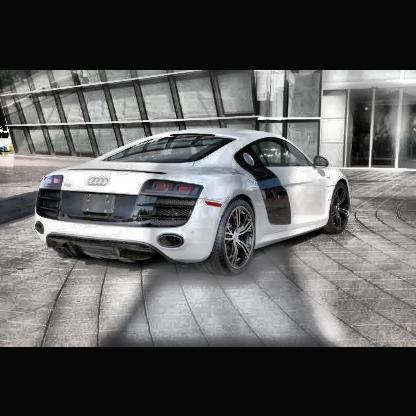Audi R8 Coupe 2012: (34, 130, 350, 278)
